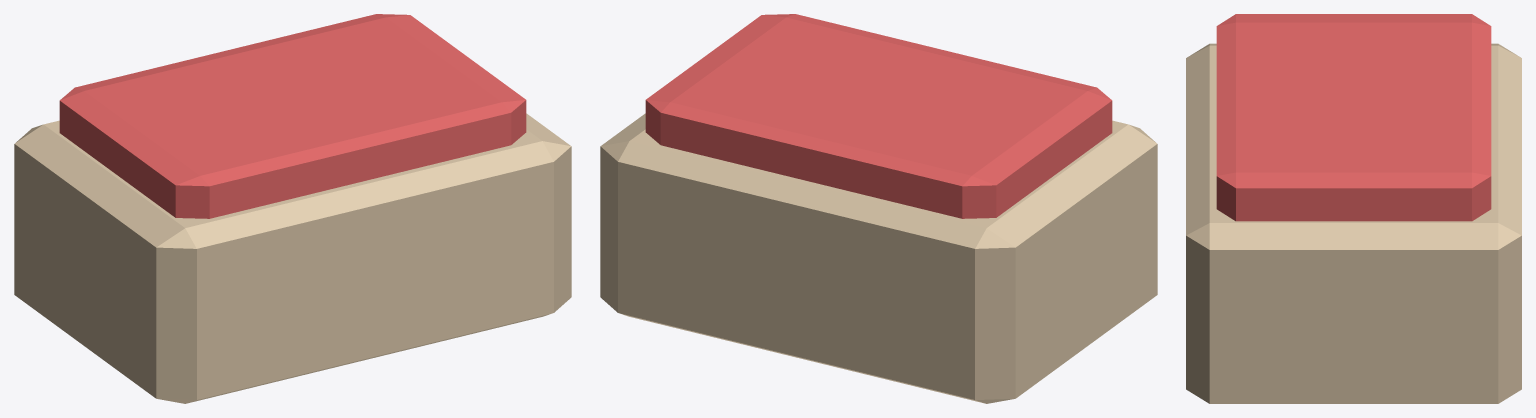
File: b16_six_egg_carton.glb
The picture shows the model from 3 angles, left to right: view 1: azimuth 30°, elevation 25°; view 2: azimuth 150°, elevation 25°; view 3: azimuth 270°, elevation 25°; orthographic projection.
Parts seen in each view (by area): view 1: b16_six_egg_carton; view 2: b16_six_egg_carton; view 3: b16_six_egg_carton.
Part boxes in pixels (bbox=[...]): b16_six_egg_carton: bbox=[14, 14, 571, 403]; b16_six_egg_carton: bbox=[600, 14, 1157, 403]; b16_six_egg_carton: bbox=[1186, 14, 1521, 403].
Size of the model in its own units: 0.16 by 0.078 by 0.11.
